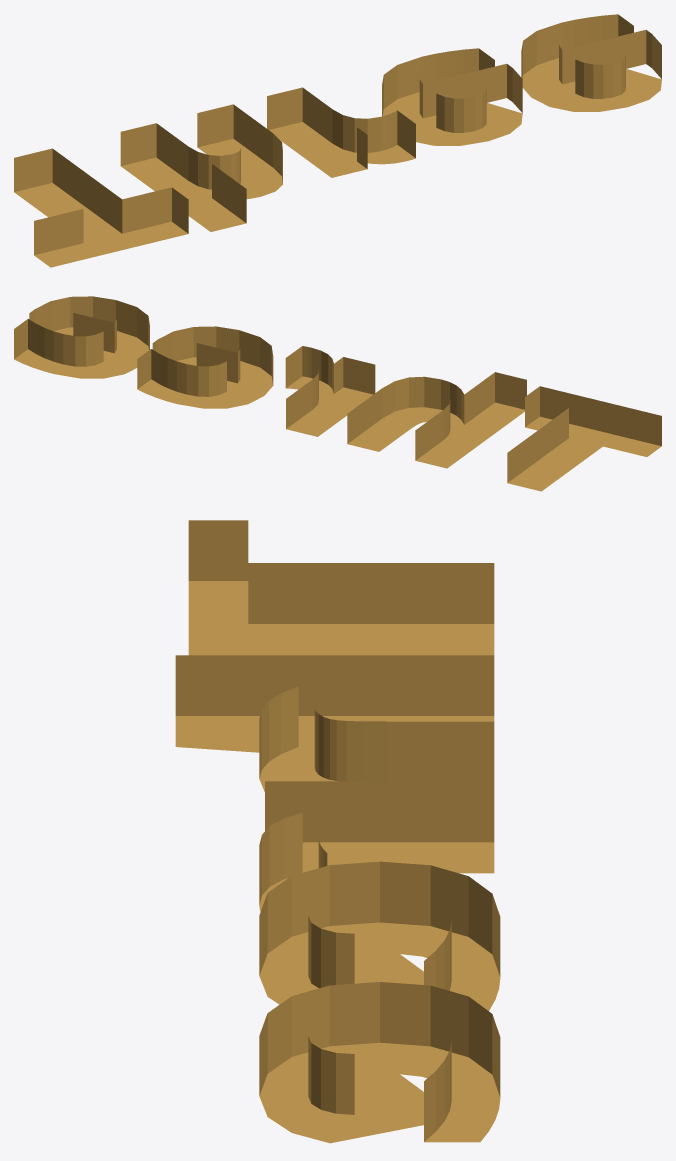
The model's file is fragment.glb.
The picture shows the model from 3 angles, top to bottom: view 1: azimuth 30°, elevation 25°; view 2: azimuth 150°, elevation 25°; view 3: azimuth 270°, elevation 25°; orthographic projection. The views are drawn at different scales.
Visible parts, largest first — view 1: THREE; view 2: THREE; view 3: THREE.
Part boxes in pixels (x1,y1,x2,y2): THREE: (14, 14, 661, 267); THREE: (14, 296, 661, 491); THREE: (175, 520, 500, 1143).
Bounding box in the file's own units: 7.02 × 0.352 × 1.7.
